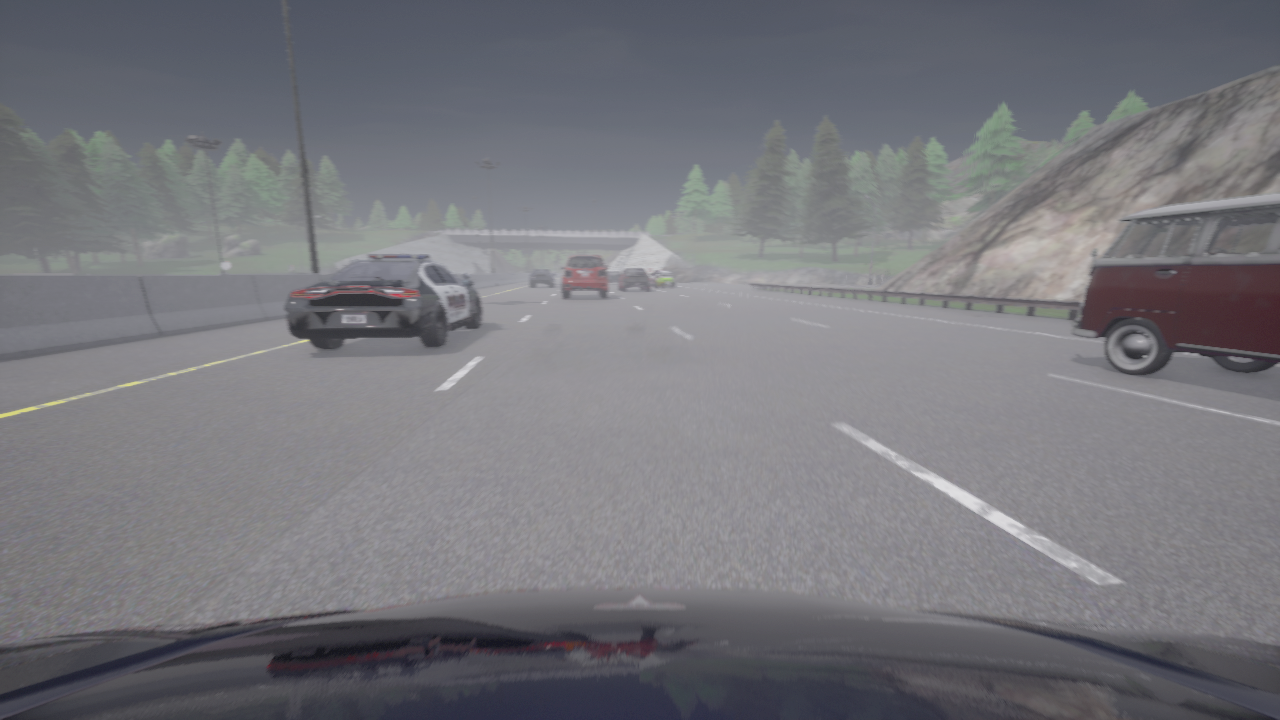cyclist: (0, 588, 1279, 719), (1071, 193, 1279, 375), (285, 255, 481, 349), (561, 255, 608, 298), (617, 268, 649, 290), (530, 270, 554, 287), (650, 270, 674, 286), (656, 271, 673, 287), (607, 272, 621, 281)
